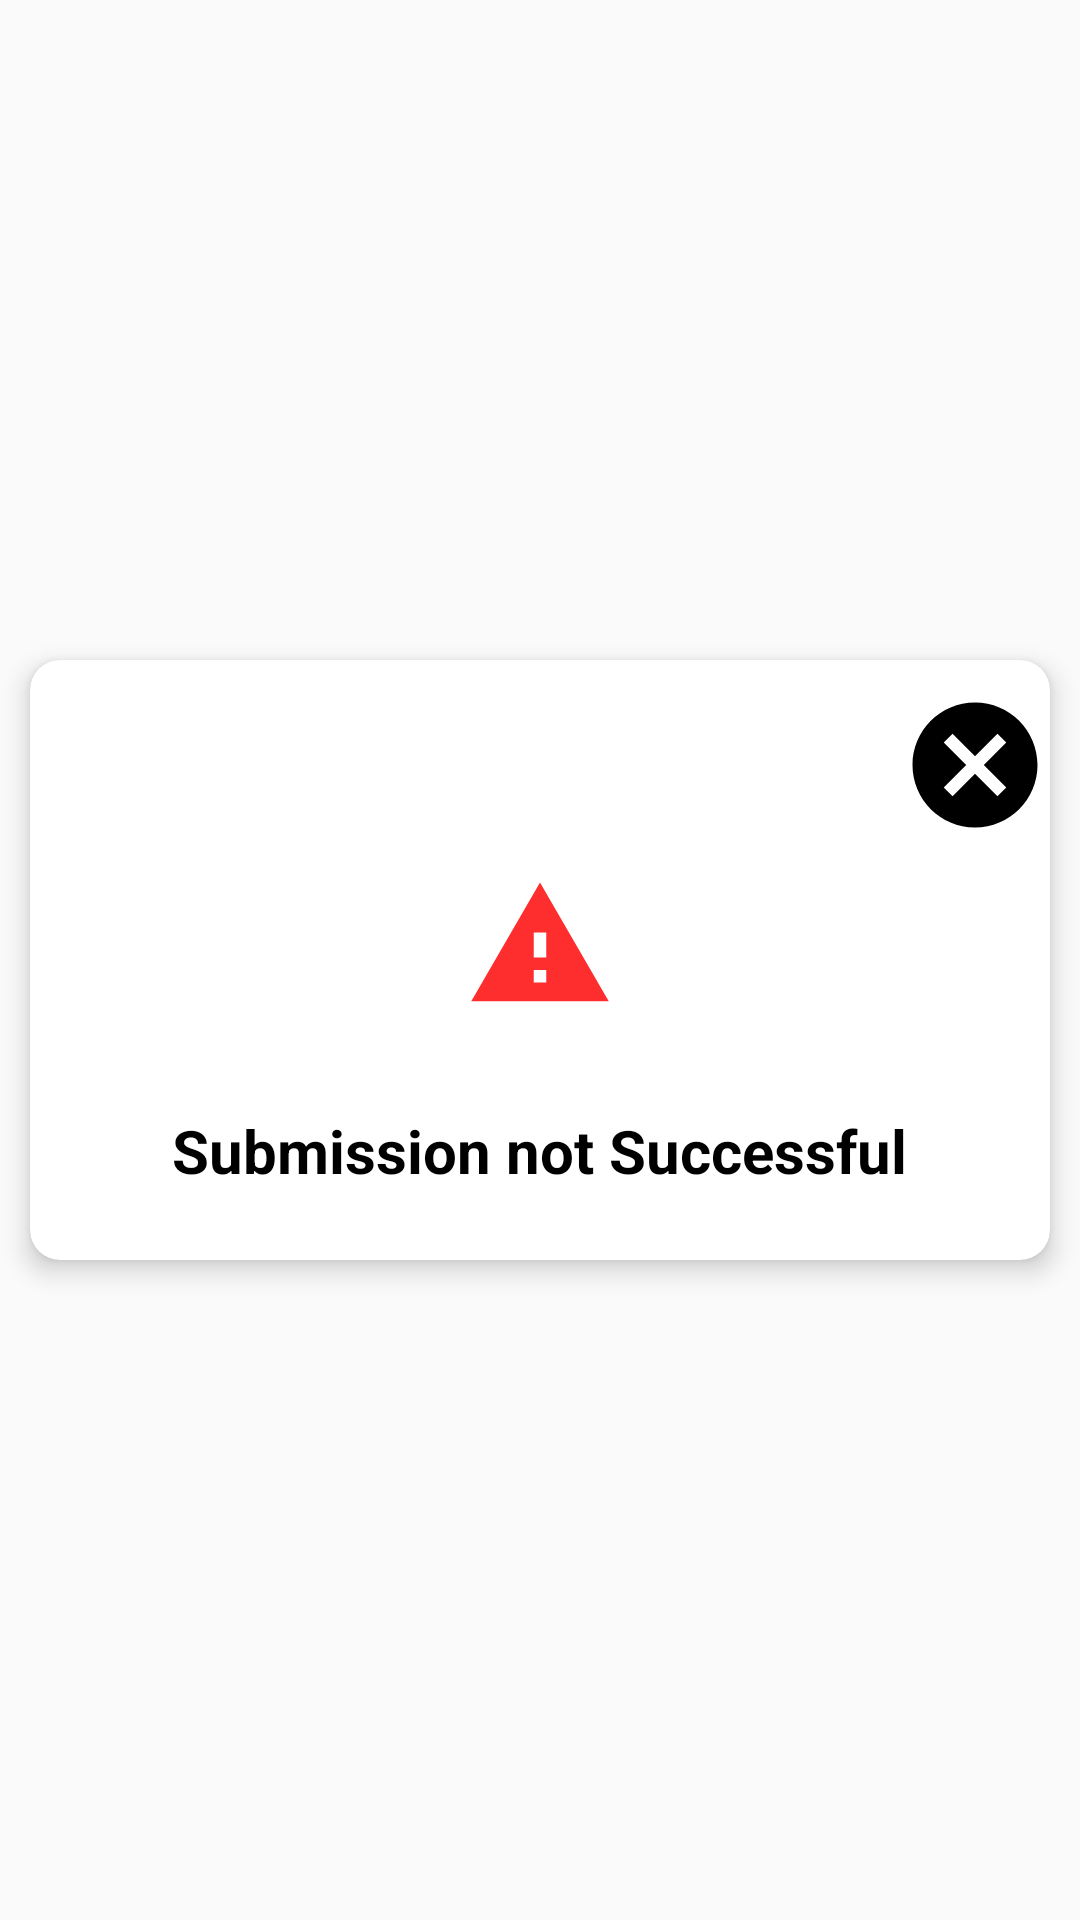

Icon click points for this 1080 x 1920 phone screenshot, format (x,y):
cancel: (975,765)
warning: (540,942)
